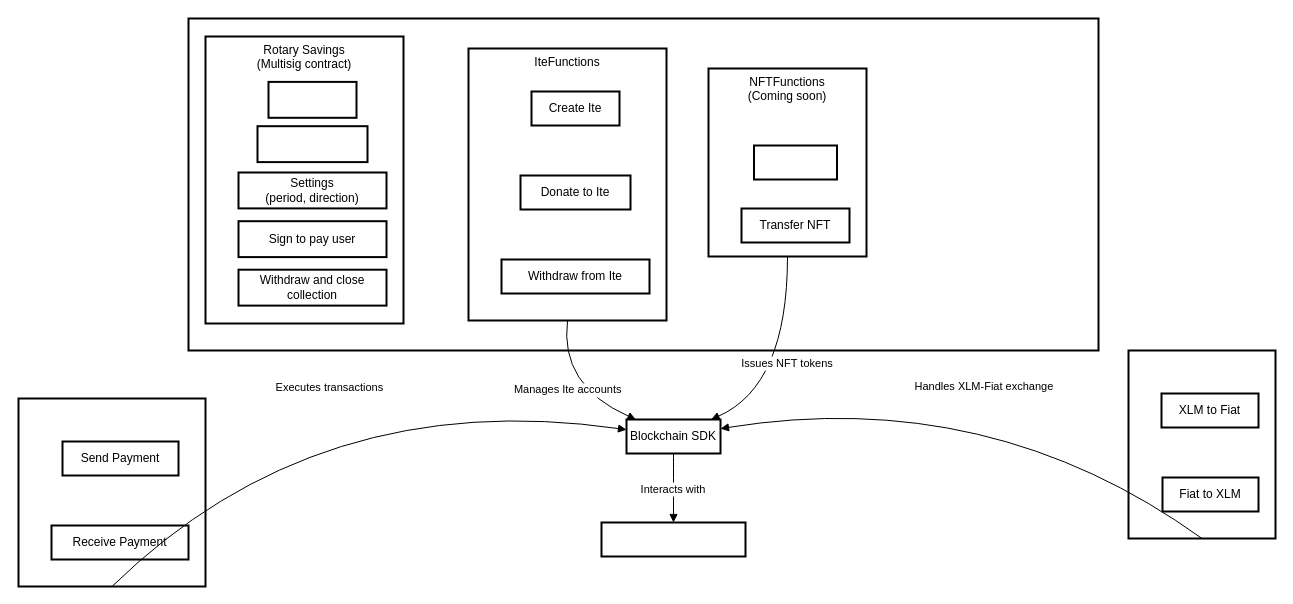
The diagram is 1293 pixels wide and 604 high, and some of its shapes have lost their labels. Each missing label, with the box of its shape:
Add users: (256, 125, 368, 163)
Create Collection: (267, 80, 357, 118)
ExchangeFunctions: (1127, 349, 1276, 539)
Mint NFT: (752, 144, 838, 180)
PaymentFunctions: (17, 397, 206, 587)
SmartContract: (187, 17, 1099, 351)
Stellar Blockchain: (600, 521, 746, 557)
